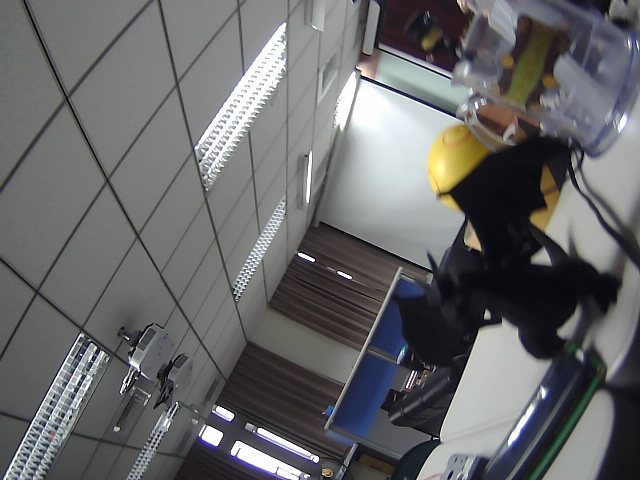charizard: (385, 123, 628, 399)
